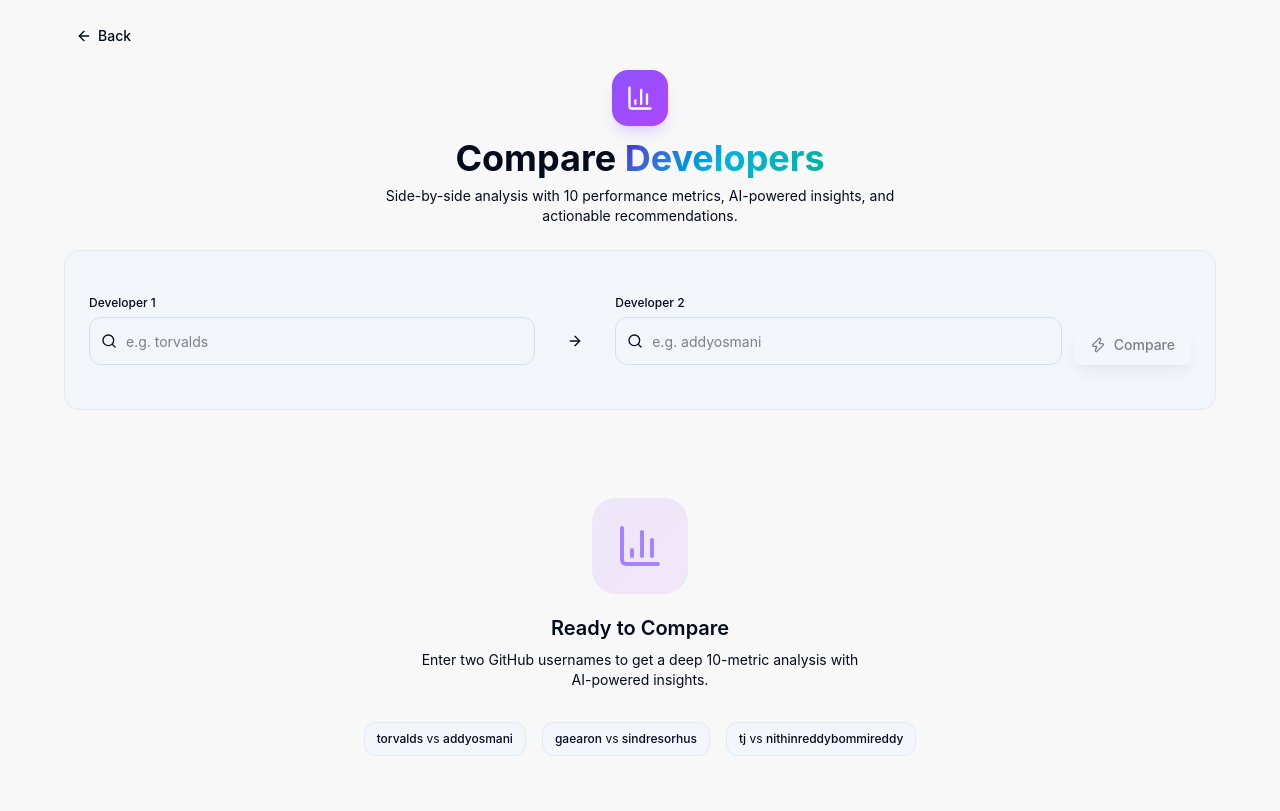
Test: ComparePage › represents an exact tie as a tie — no winner badge
The width and height of the screenshot is (1280, 811).
Type "alice" into the field with placeholder "e.g. torvalds" at (312, 341), box [89, 317, 535, 365]
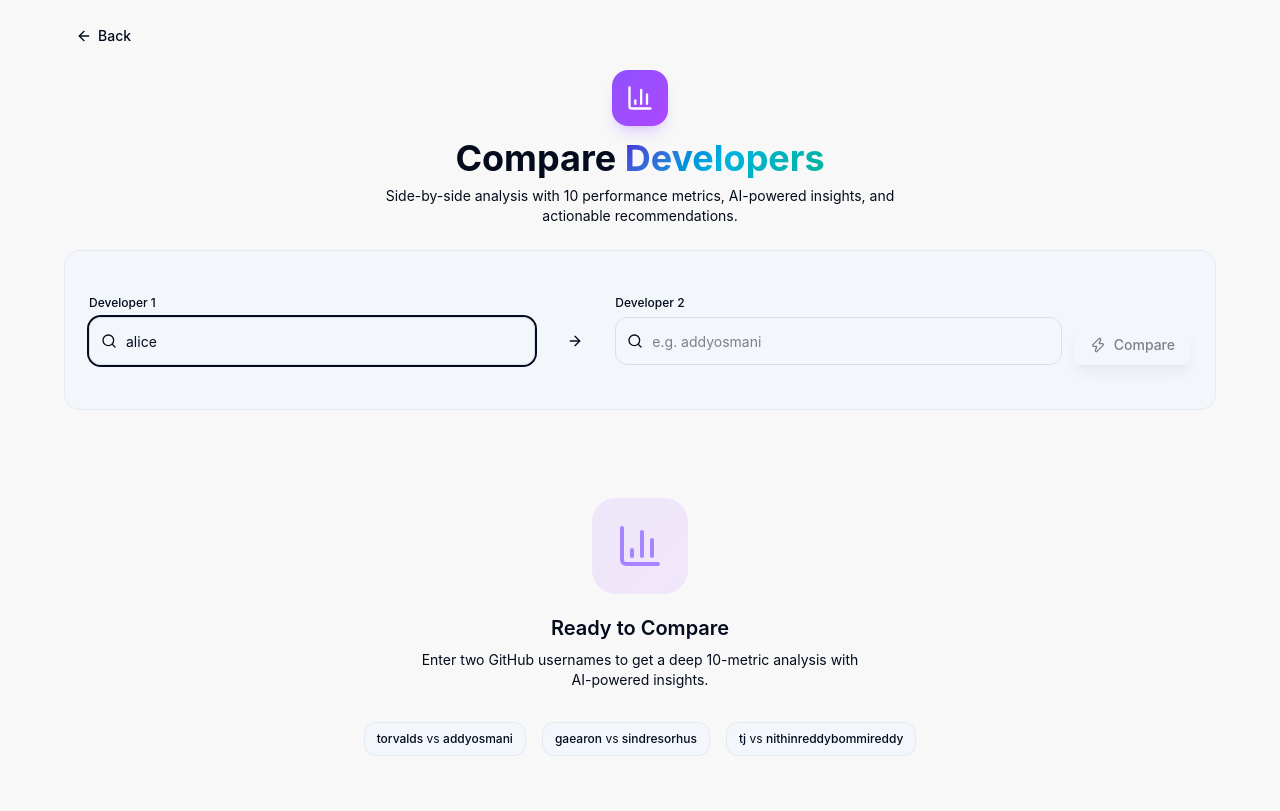
Type "bob" into the field with placeholder "e.g. addyosmani" at (839, 341), box [615, 317, 1062, 365]
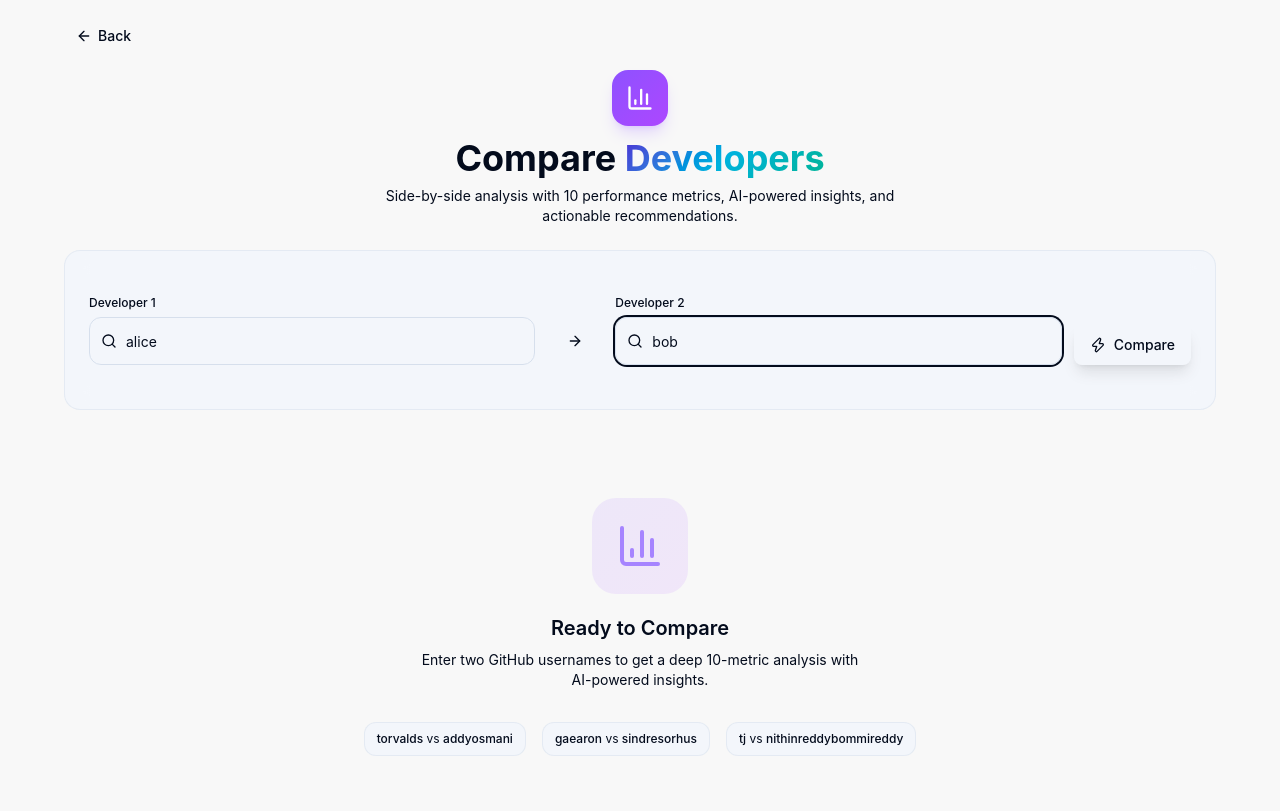
Click the button "Compare" at (1132, 345), box [1074, 325, 1191, 365]
(page scrolled)
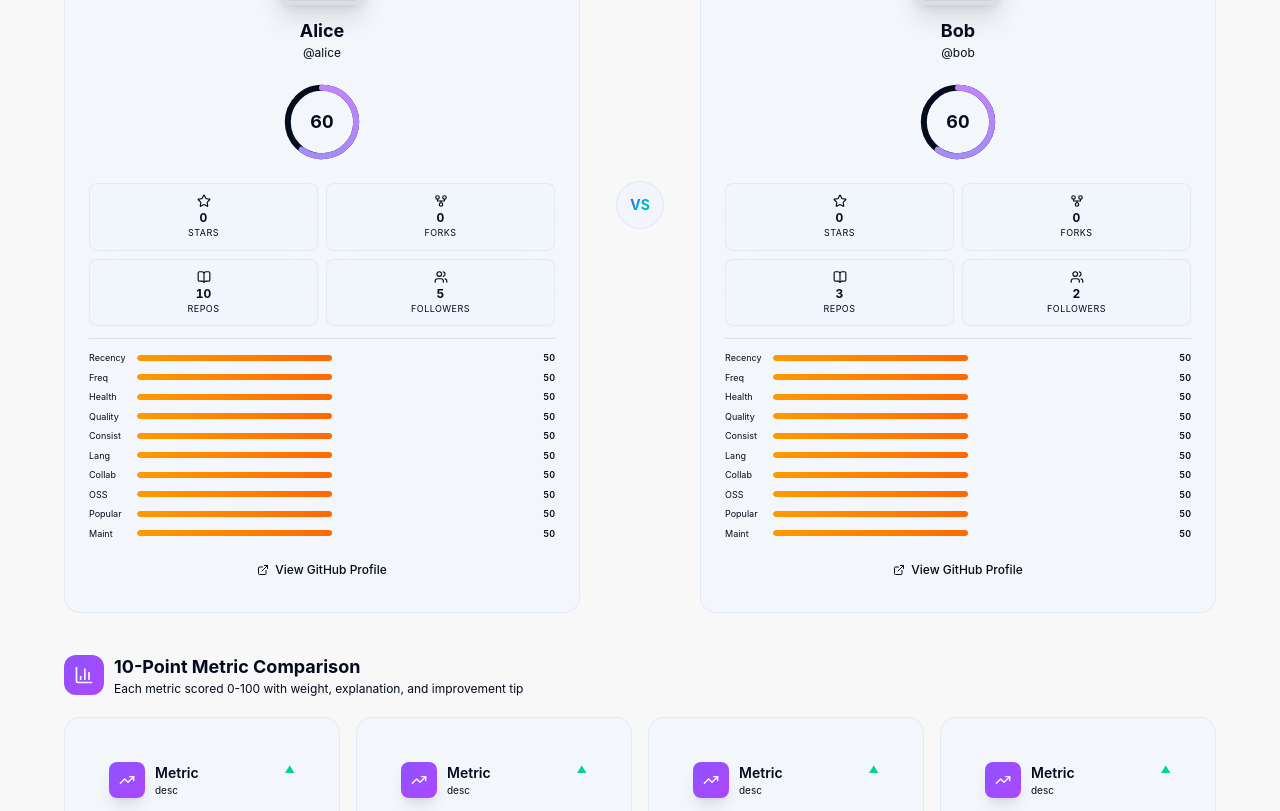
Expected: the 1st text "50" is shown, [543, 352, 555, 363]
